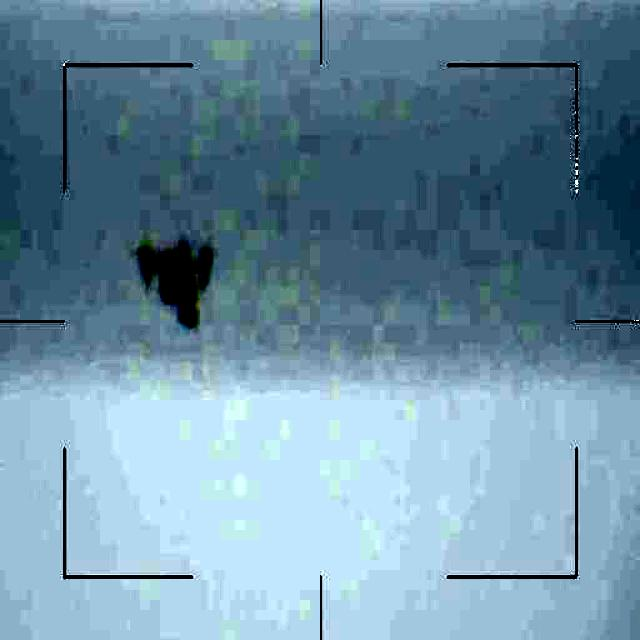bird: (136, 236, 219, 329)
